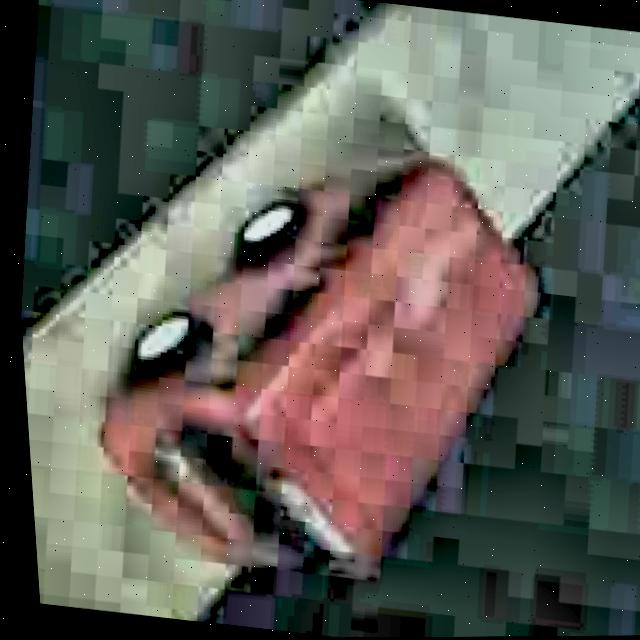bus: (58, 113, 572, 602)
